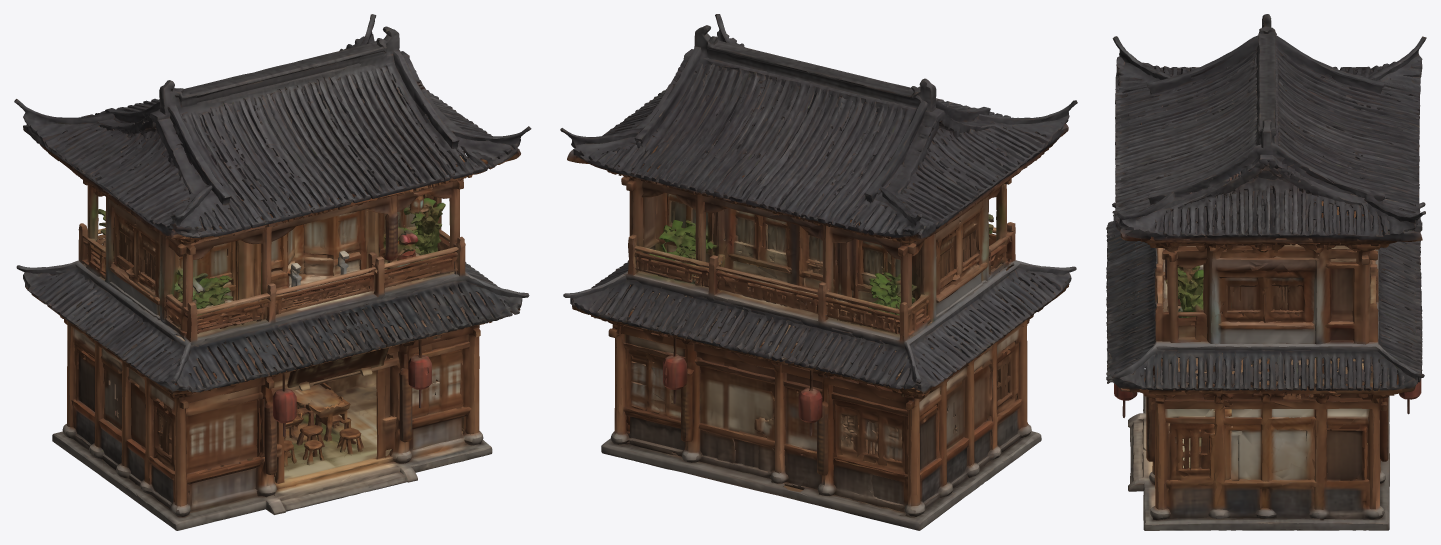
The model's file is restaurant-wine-house.glb.
3 views of the same model, side by side, from view 1: azimuth 30°, elevation 25°; view 2: azimuth 150°, elevation 25°; view 3: azimuth 270°, elevation 25° (orthographic).
Visible parts, largest first — view 1: world; view 2: world; view 3: world.
Part boxes in pixels (box(x1,y1,x2,y2)): world: box(14, 14, 531, 530); world: box(560, 14, 1077, 530); world: box(1106, 14, 1426, 530).
Size of the model in its own units: 0.5781 by 0.6 by 0.4455.
1 material, 1 textured.
